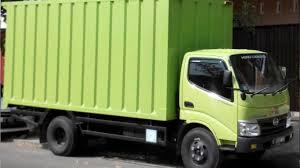truck: (172, 39, 300, 168)
